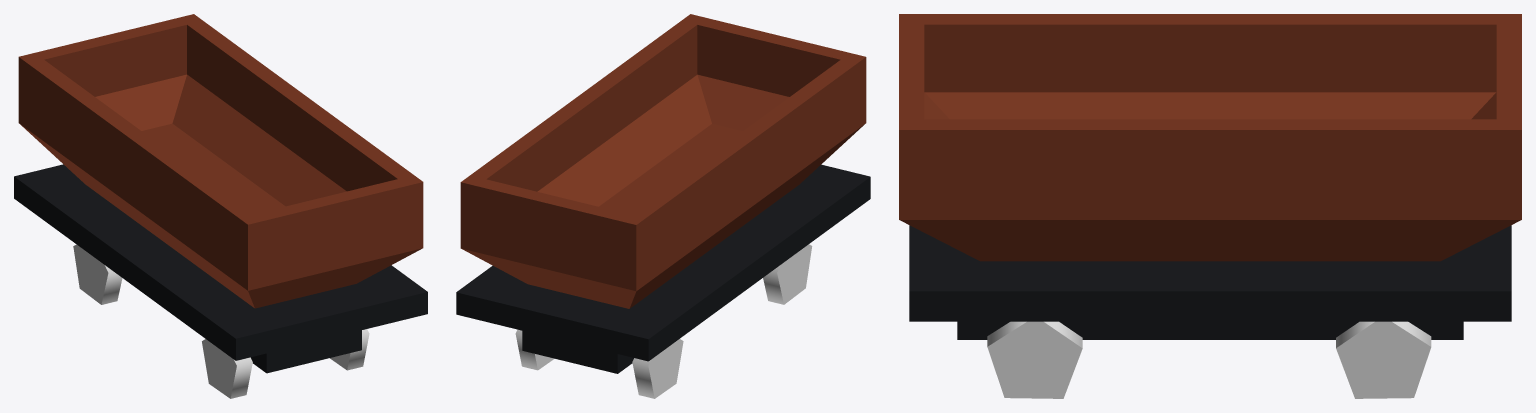
Rendered from Wagon.fbx.
3 views of the same model, side by side, from view 1: azimuth 30°, elevation 25°; view 2: azimuth 150°, elevation 25°; view 3: azimuth 270°, elevation 25° (orthographic). The views are drawn at different scales.
Parts seen in each view (by area): view 1: wagon; view 2: wagon; view 3: wagon.
Part boxes in pixels (x1=…): wagon: x1=14, y1=14, x2=427, y2=398; wagon: x1=456, y1=14, x2=870, y2=398; wagon: x1=899, y1=14, x2=1521, y2=398.
Bounding box in the file's own units: 0.3 × 0.3112 × 0.6207.
